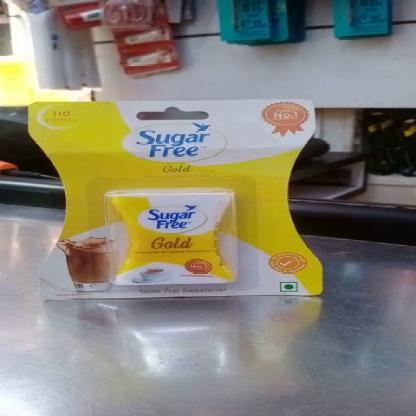SUGAR FREE GOLD 500 PELLET: (34, 104, 325, 299)
